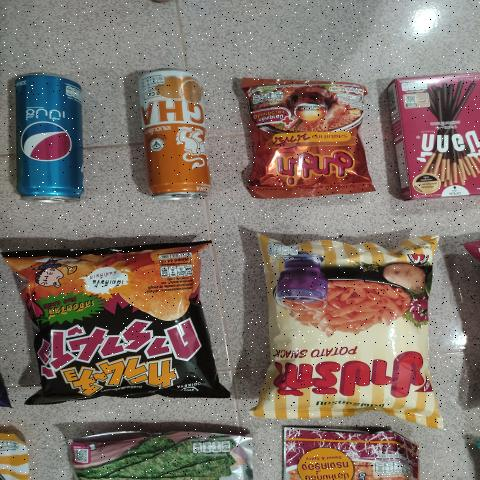karamujo: (20, 243, 216, 404)
mama: (243, 84, 366, 193)
paprika: (260, 232, 436, 420)
pepsi_blue: (5, 67, 95, 203)
pokki: (390, 73, 480, 194)
singha_yellow: (124, 62, 218, 207)
